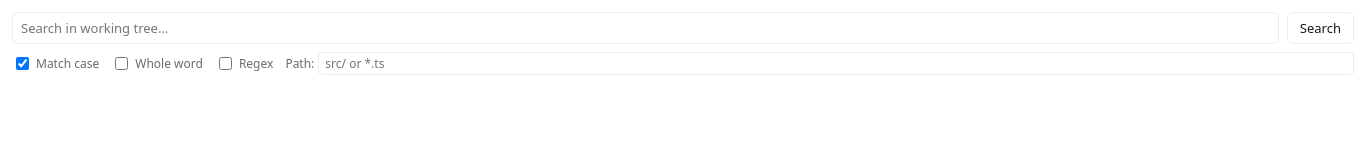
SearchView › runs the search and lists matches grouped by file
The width and height of the screenshot is (1366, 160).
Type "hello" into the field labelled "Search in working tree".
click(645, 28); type("hello")  # box [12,12,1279,44]
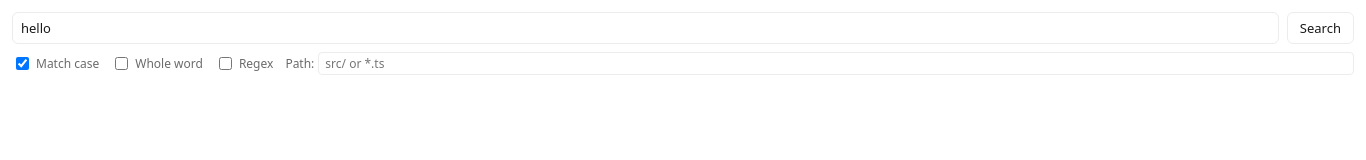
Click the button "Search".
click(1320, 28)  # box [1287,12,1354,44]
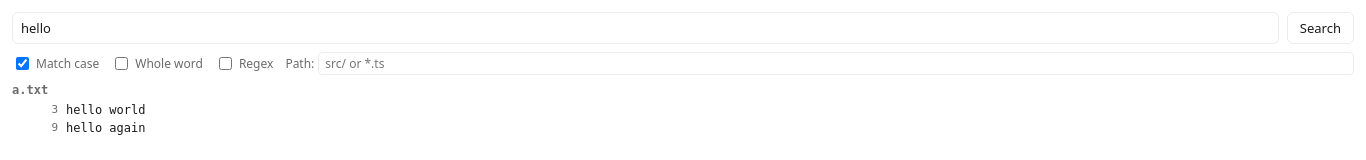
Now the heading "a.txt" is shown, box [12,83,48,97]
Now the text "hello world" is shown, box [66,103,146,117]
Now the text "hello again" is shown, box [66,121,146,135]
